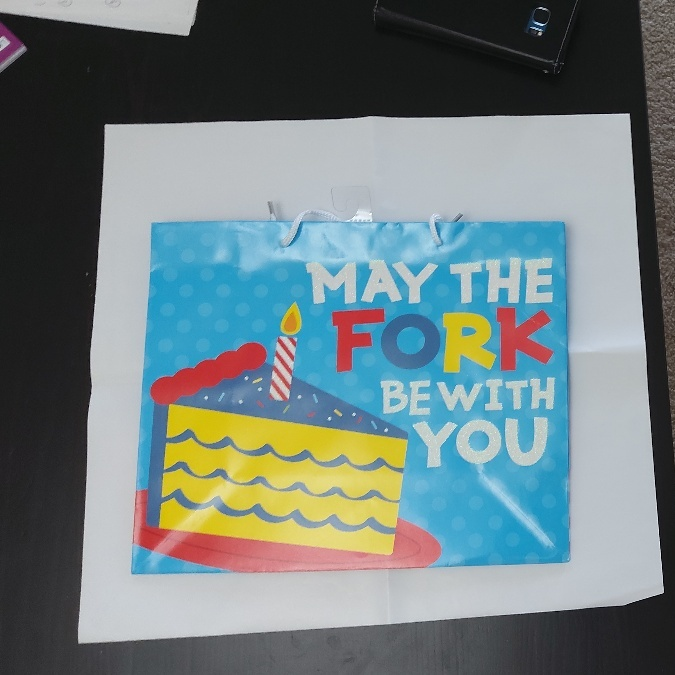paper_bag: (149, 223, 571, 566)
